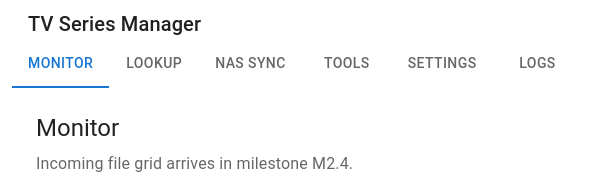
App › tab navigation › clicking the Logs tab renders the Logs page
Click the tab "Logs" at (538, 64), box [492, 40, 582, 88]
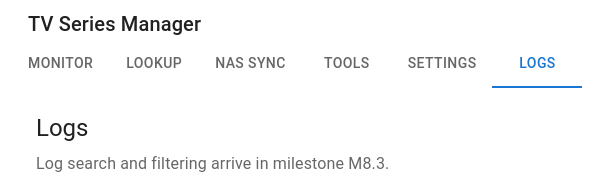
Expected: the heading "Logs" is shown, [36, 114, 88, 142]
